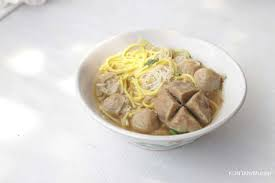bakso: (97, 46, 228, 141)
